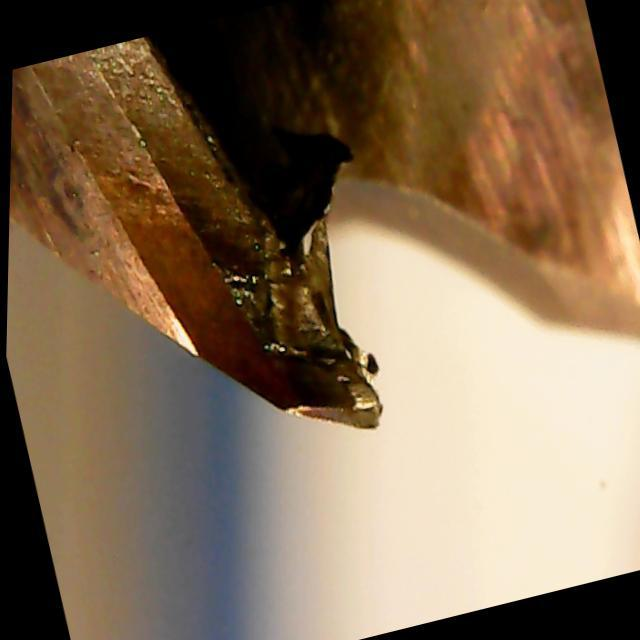Tool-wear-class-3: (127, 182, 418, 516)
